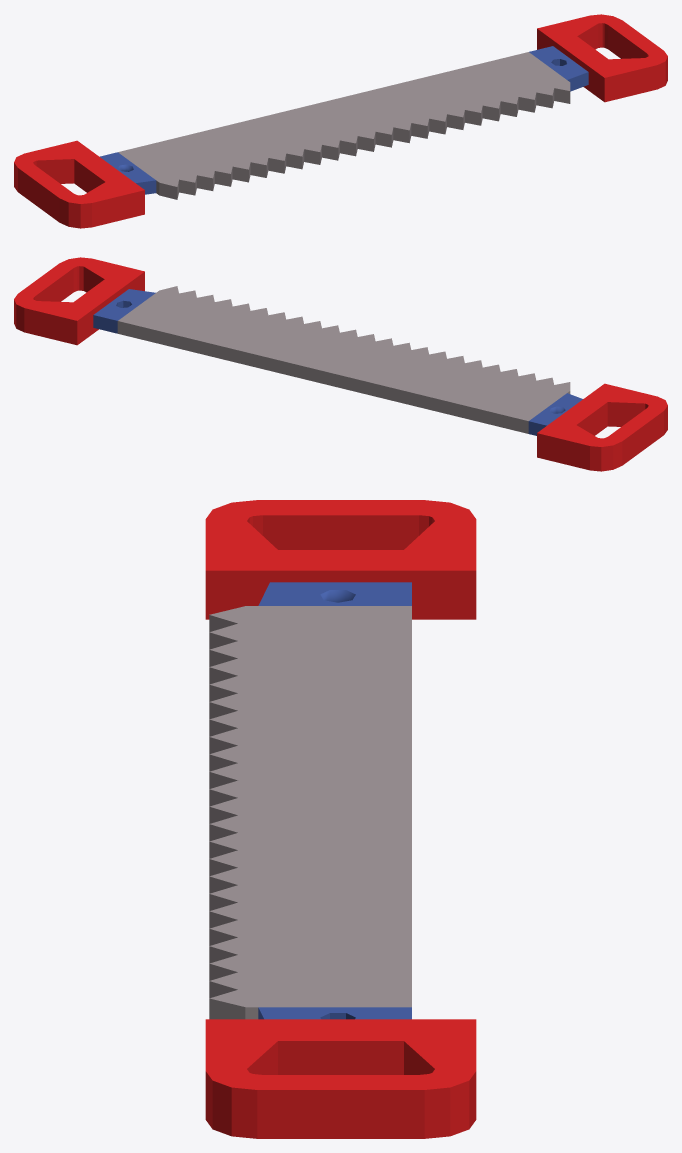
File: saw.fbx
3 renders of one model, top to bottom at view 1: azimuth 30°, elevation 25°; view 2: azimuth 150°, elevation 25°; view 3: azimuth 270°, elevation 25°, orthographic. The views are drawn at different scales.
Parts seen in each view (by area): view 1: saw; view 2: saw; view 3: saw.
Boxes of the visible parts, bbox=[...] form: saw: bbox=[14, 14, 667, 228]; saw: bbox=[14, 257, 667, 471]; saw: bbox=[205, 500, 476, 1138].
Size of the model in its own units: 395 by 15.28 by 76.64.
